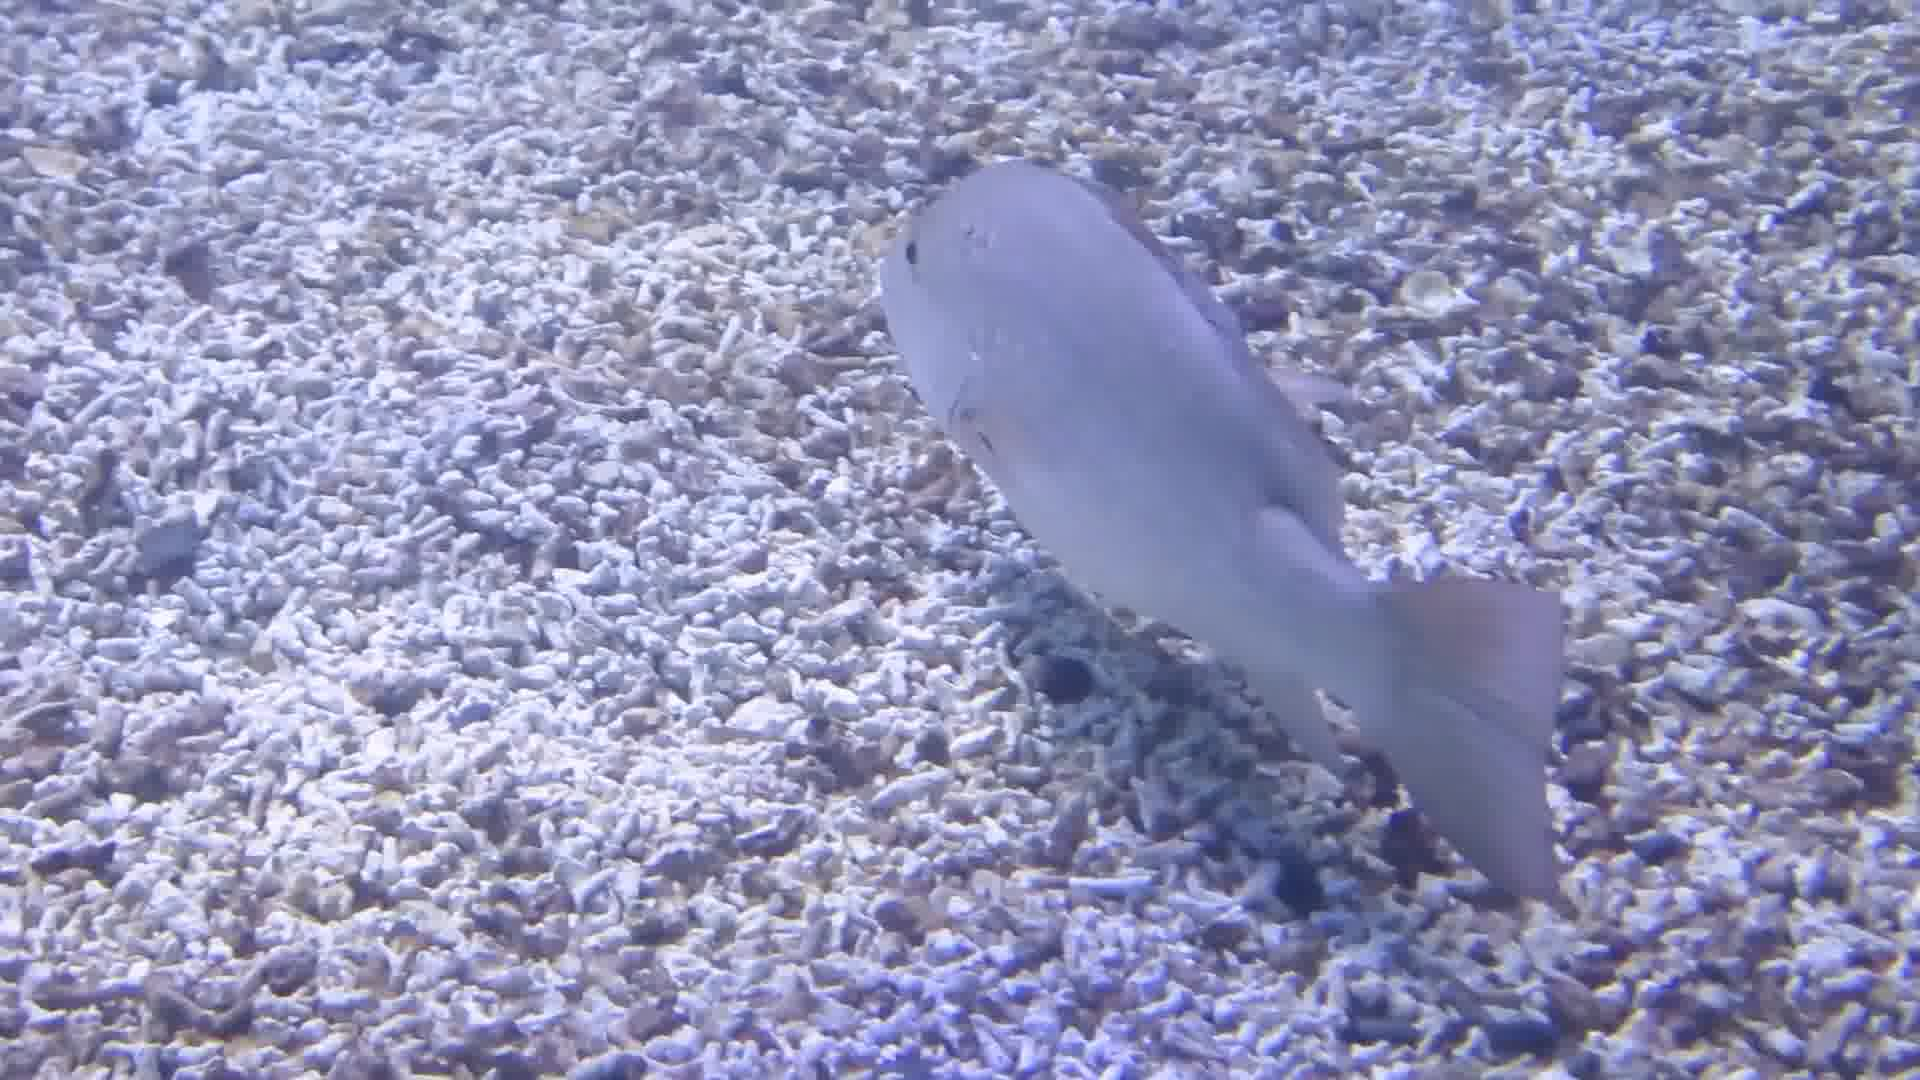Lutjanus argentimaculatus: (862, 149, 1419, 753)
